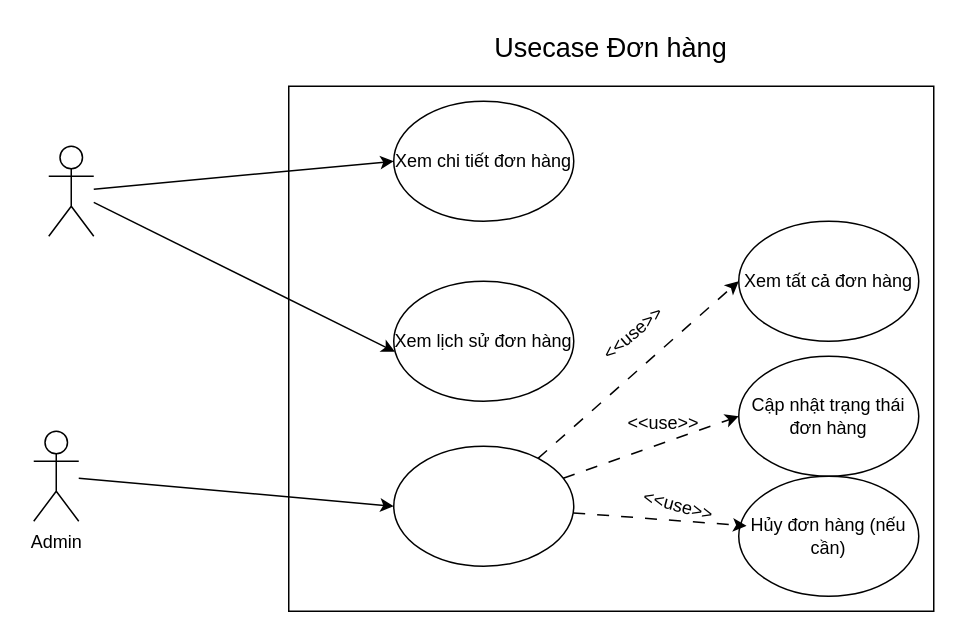
The diagram is 960 pixels wide and 638 high, and some of its shapes have lost their labels. The box of each missing label's shape, as (x1, y1, x2, y2) in pixels:
Người mua: (47, 145, 94, 236)
Quản lý đơn hàng: (392, 445, 574, 566)
